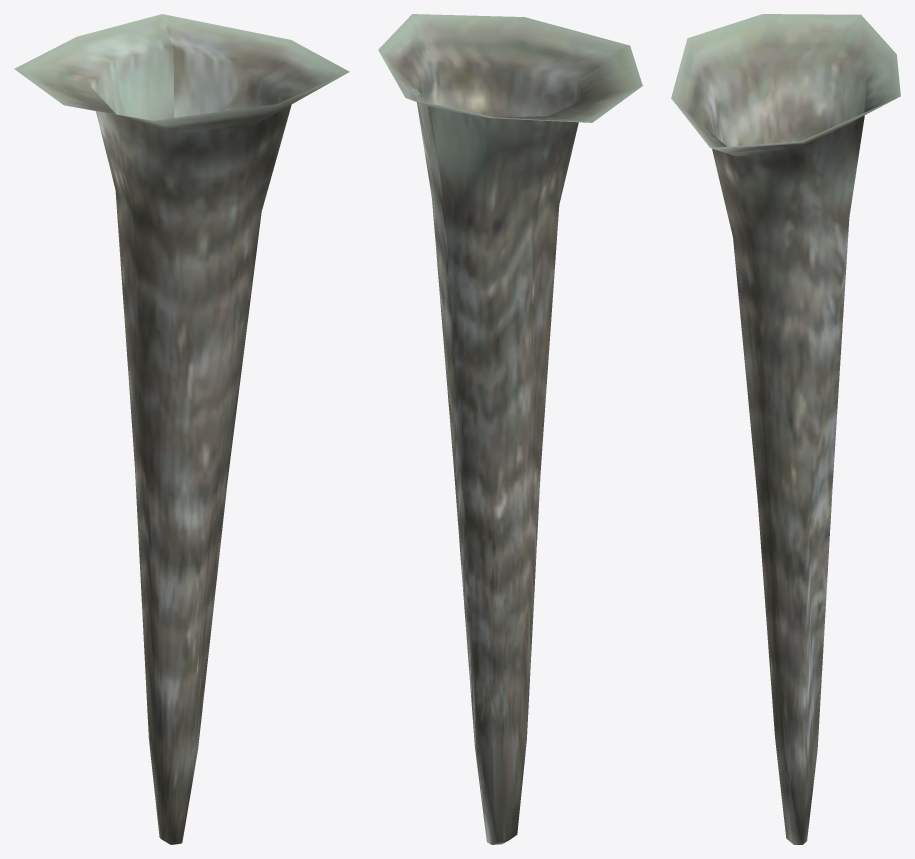
Rendered from TROLLHOLE02_PS-UPPERSTALAG32.fbx.
3 renders of one model, left to right at view 1: azimuth 30°, elevation 25°; view 2: azimuth 150°, elevation 25°; view 3: azimuth 270°, elevation 25°, orthographic. The views are drawn at different scales.
Visible parts, largest first — view 1: TROLLHOLE02_PS-UPPERSTALAG32; view 2: TROLLHOLE02_PS-UPPERSTALAG32; view 3: TROLLHOLE02_PS-UPPERSTALAG32.
Part boxes in pixels (box(x1,y1,x2,y2)): TROLLHOLE02_PS-UPPERSTALAG32: box(14, 14, 349, 844); TROLLHOLE02_PS-UPPERSTALAG32: box(378, 14, 642, 844); TROLLHOLE02_PS-UPPERSTALAG32: box(671, 14, 900, 844).
Size of the model in its own units: 10589 by 30540 by 8290.
1 material, 1 textured.
